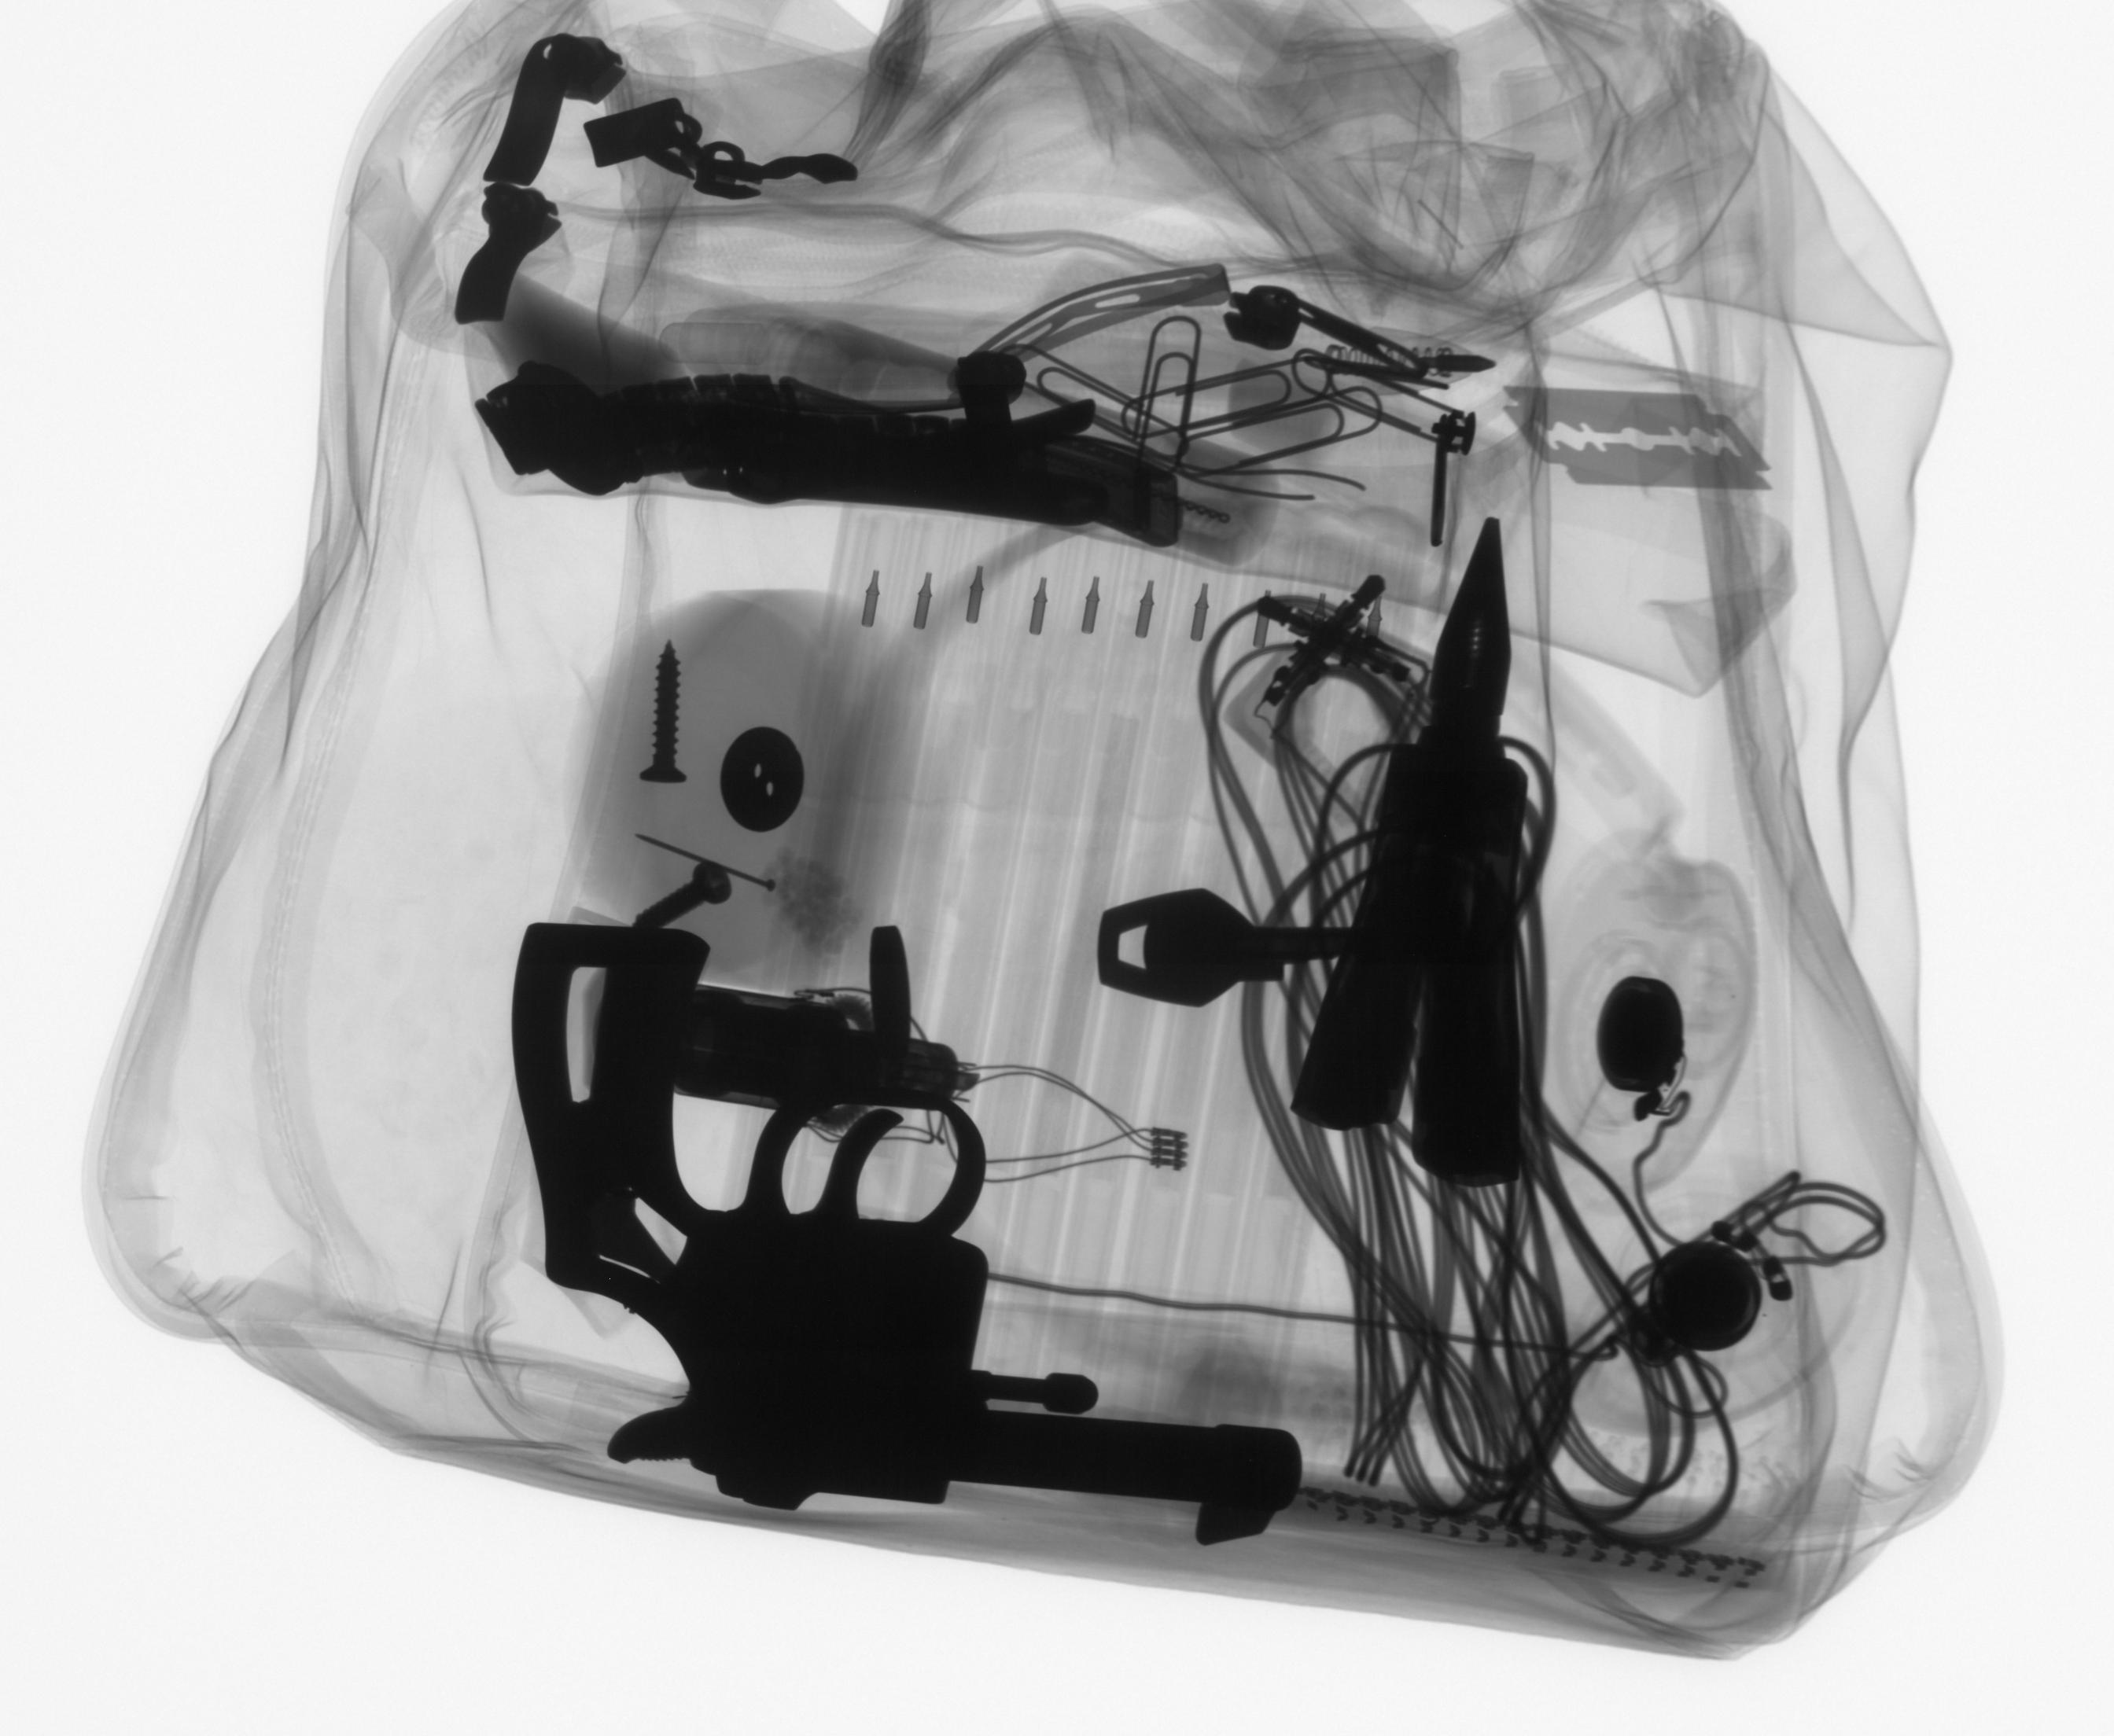Handgun: (500, 911, 1312, 1557)
RazorBlade: (1496, 374, 1787, 506)
